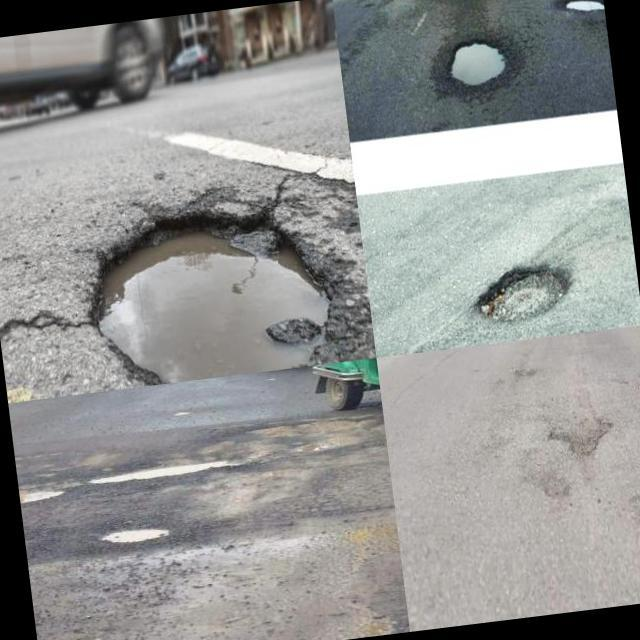Pothole: (96, 198, 376, 387), (95, 445, 260, 484), (546, 410, 616, 484), (93, 524, 189, 544), (523, 471, 570, 500), (18, 487, 61, 504)
